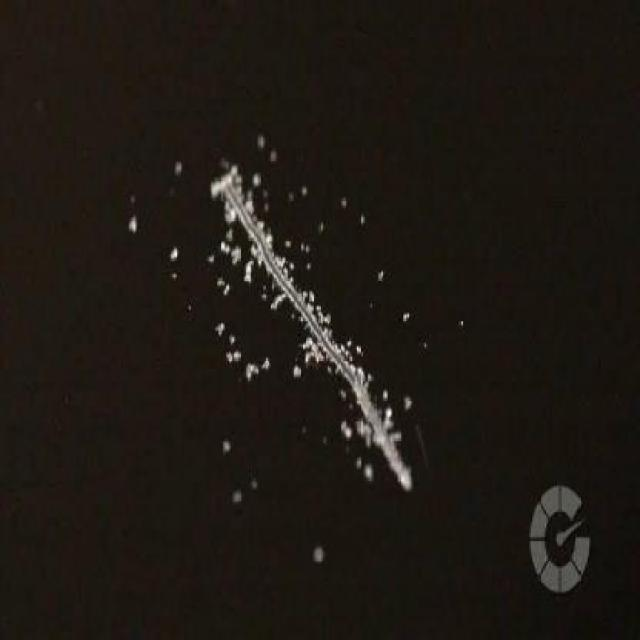scratch: (104, 125, 458, 530)
